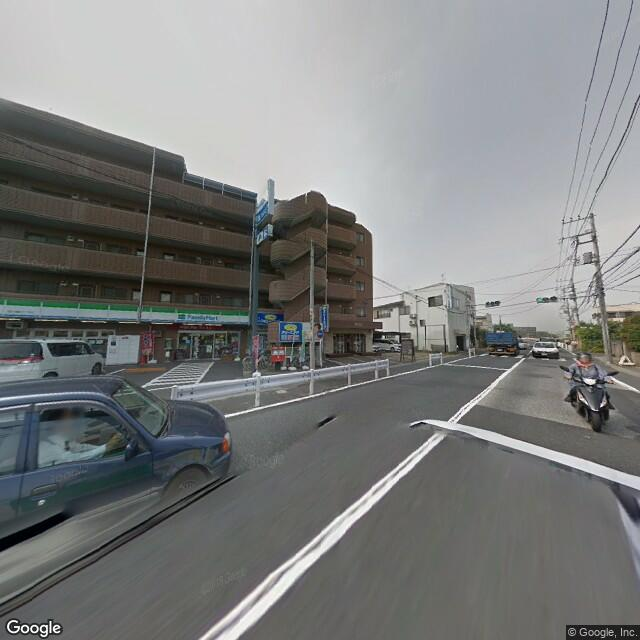family_mart: (2, 296, 249, 328)
